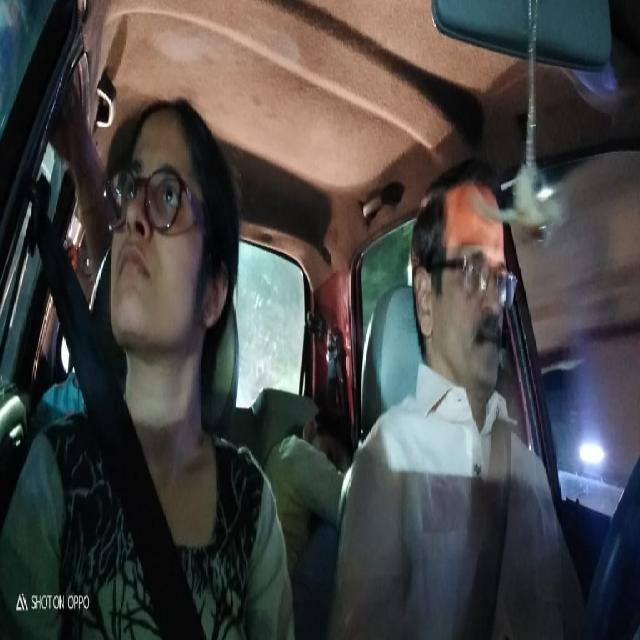person: (102, 87, 244, 378), (408, 158, 516, 399)
